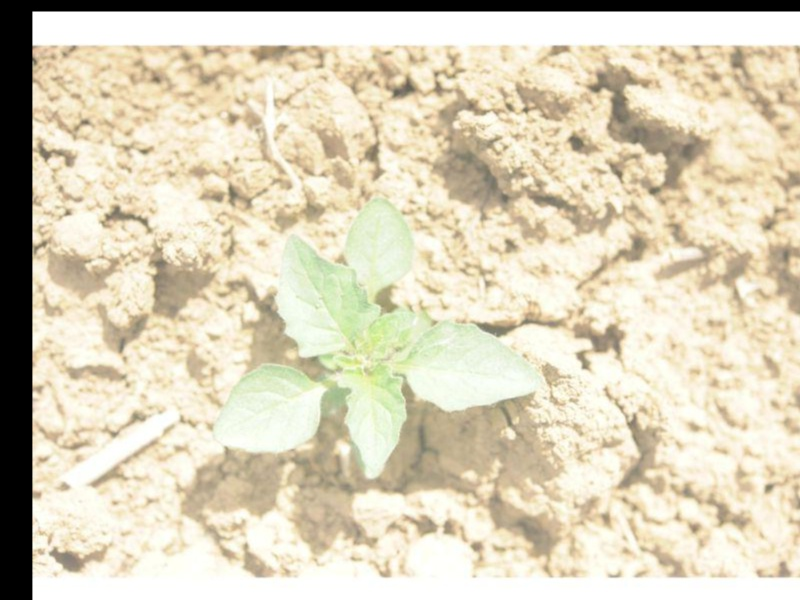nightshade: (214, 198, 542, 480)
